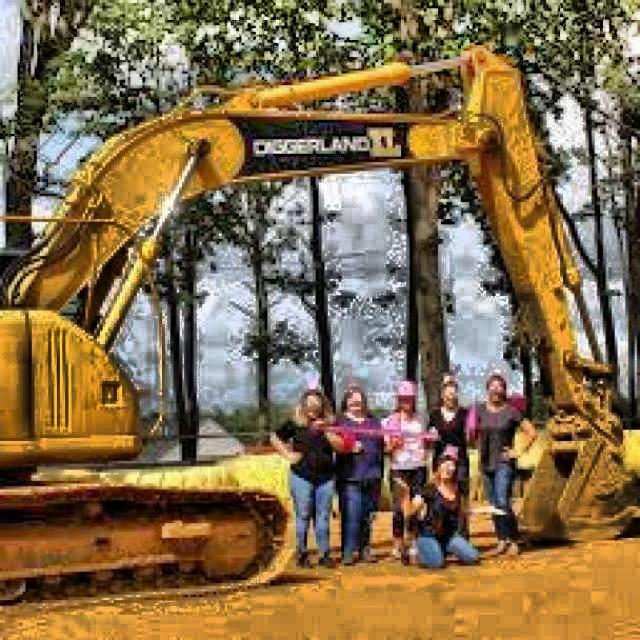bull_dozer/loader/grader: (0, 41, 640, 612)
person: (470, 370, 538, 561), (269, 382, 336, 570), (334, 384, 385, 566), (411, 454, 483, 571), (382, 381, 428, 564), (430, 374, 471, 500)
